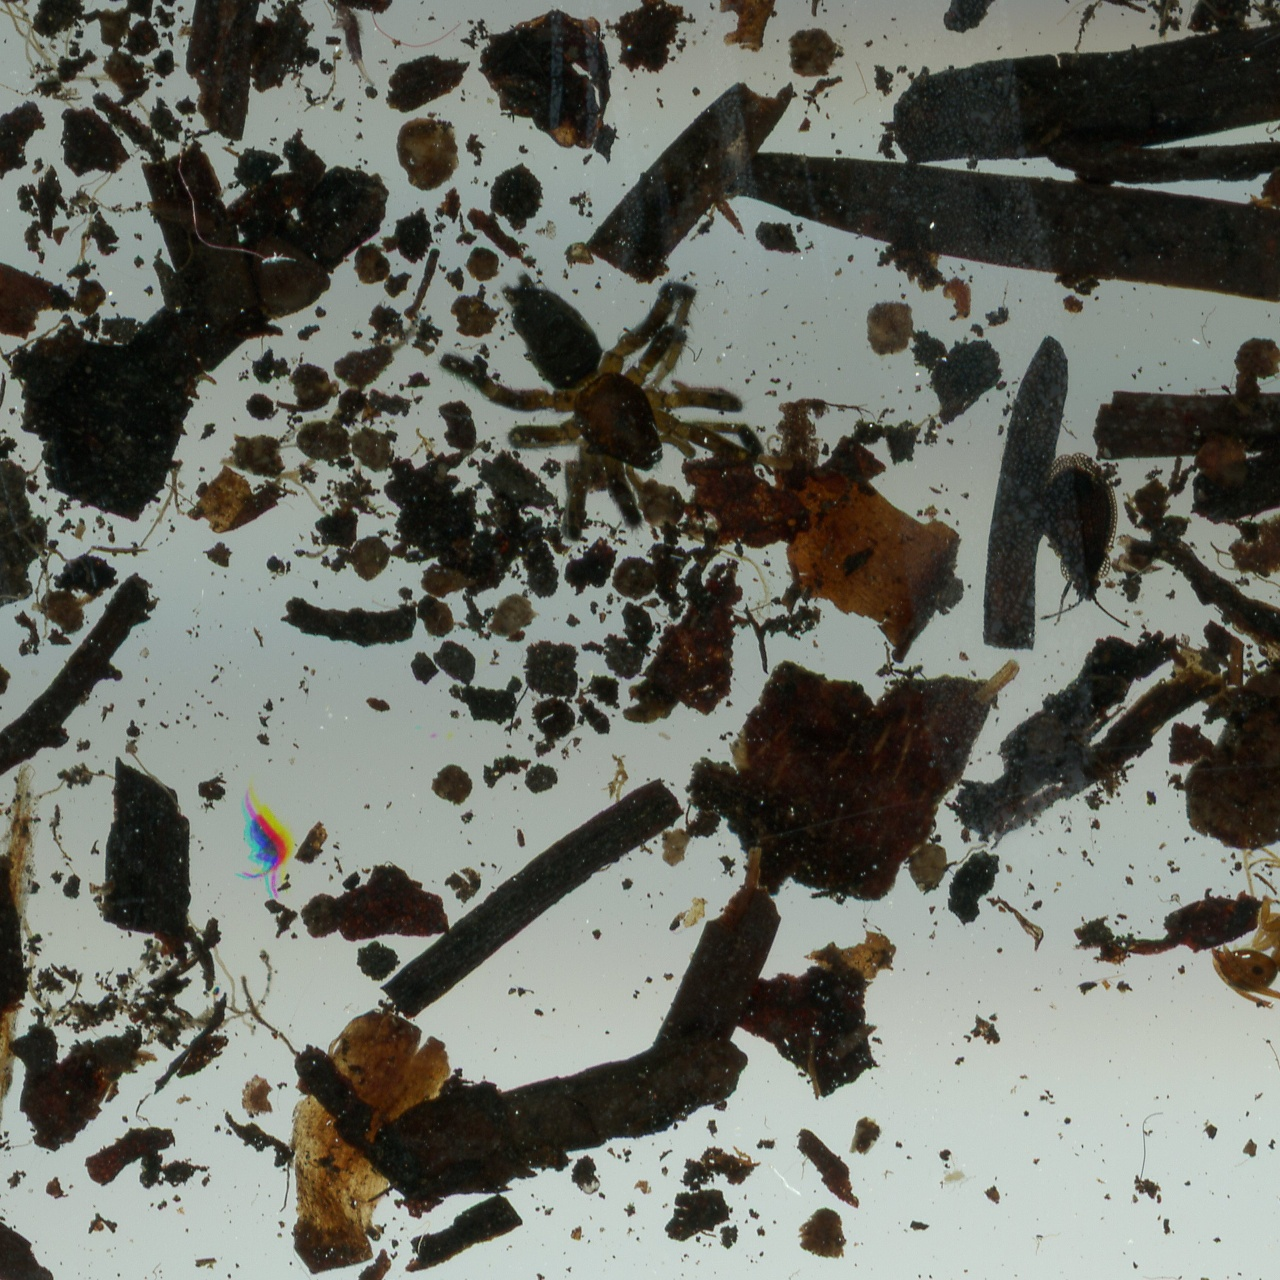arthropod: (441, 272, 762, 542), (1033, 455, 1128, 626), (1209, 842, 1280, 1010), (239, 787, 285, 896), (330, 4, 376, 87)
